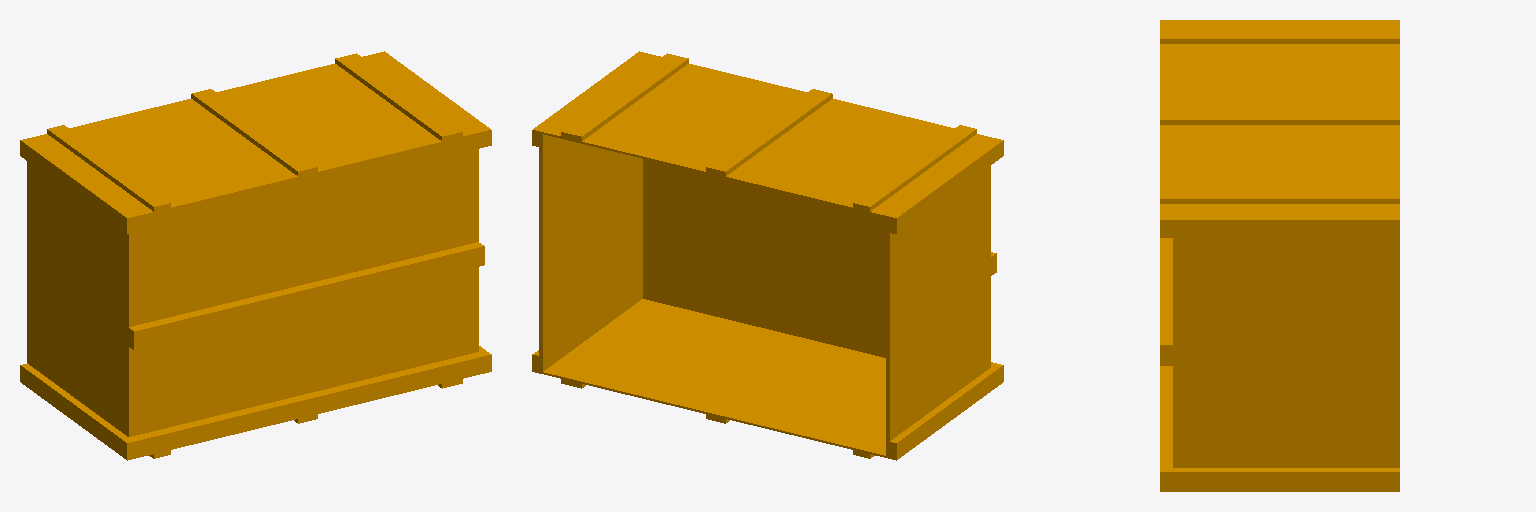
The robot description file, URDF, robot "WoodenBox.urdf":
<?xml version="1.0" ?>
<robot name="WoodenBox.urdf">
  <link name="baseLink">
    <contact>
      <lateral_friction value="0.5"/>
      <rolling_friction value="0.0"/>
      <contact_cfm value="0.0"/>
      <contact_erp value="1.0"/>
    </contact>
    <inertial>
      <origin rpy="0 0 0" xyz="0.0 0.0 0.0"/>
       <mass value=".1"/>
       <inertia ixx="1" ixy="0" ixz="0" iyy="1" iyz="0" izz="1"/>
    </inertial>
    <visual>
      <origin rpy="0 0 0" xyz="0 0 0"/>
      <geometry>
        <mesh filename="WoodenBox.obj" scale="1 1 1"/> #scale="1 1 1"
      </geometry>
    </visual>
    <collision>
      <origin rpy="0 0 0" xyz="0 0 0"/>
      <geometry>
	 <mesh filename="WoodenBox.obj" scale="1 1 1"/> #scale=".1 .1 .1"
      </geometry>
    </collision>
  </link>
</robot>

--- Facts derived from the render (not from the file) ---
3 views of the same robot in one strip: view 1: azimuth 30°, elevation 25°; view 2: azimuth 150°, elevation 25°; view 3: azimuth 270°, elevation 25° (orthographic).
Robot: WoodenBox.urdf — 1 links, 0 joints (none); root link baseLink; default pose: all joints at 0.
Visible links, largest first — view 1: baseLink; view 2: baseLink; view 3: baseLink.
Link boxes in pixels (x1,y1,x2,y2): baseLink: (20, 51, 491, 460); baseLink: (532, 51, 1003, 460); baseLink: (1160, 20, 1399, 491).
Size in the robot's own frame: 1.18 by 0.6 by 0.78 metres.
Meshes: 1 distinct files referenced, 1 mesh visuals loaded (1 OBJ).